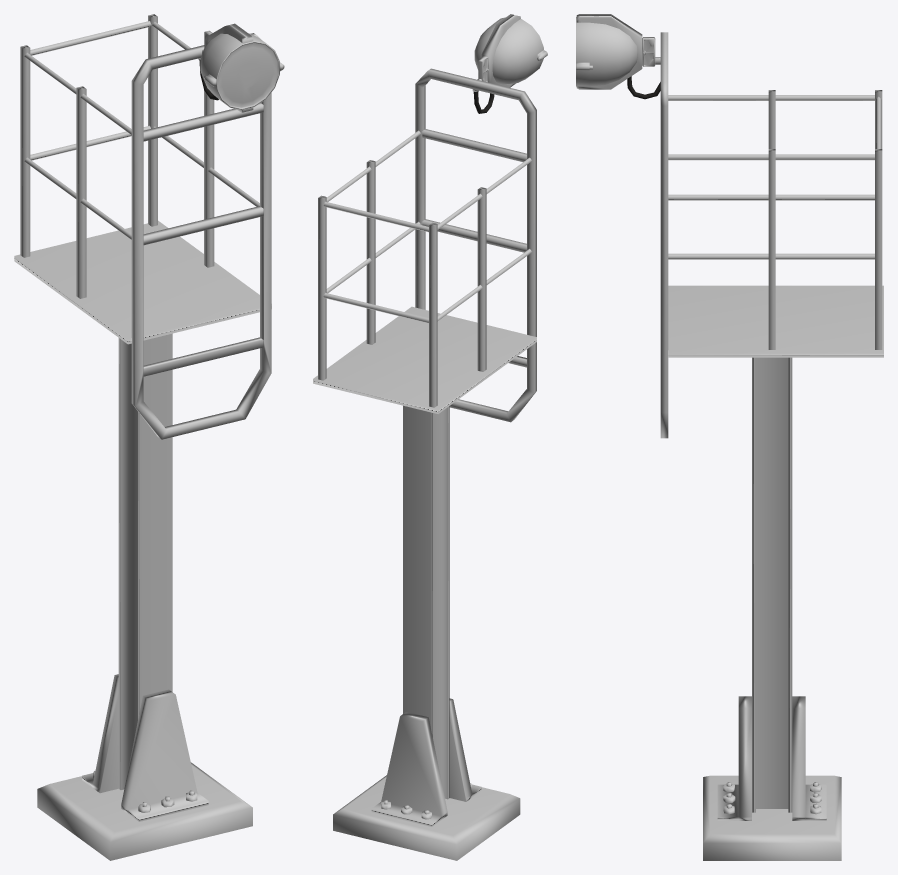
Rendered from anflugfeuersystem_atr_mast_kaefig.fbx.
3 renders of one model, left to right at view 1: azimuth 30°, elevation 25°; view 2: azimuth 150°, elevation 25°; view 3: azimuth 270°, elevation 25°, orthographic. The views are drawn at different scales.
Visible parts, largest first — view 1: Mesh; view 2: Mesh; view 3: Mesh.
Boxes of the visible parts, x1=… form: Mesh: x1=14, y1=14, x2=284, y2=860; Mesh: x1=313, y1=14, x2=547, y2=860; Mesh: x1=576, y1=14, x2=883, y2=860.
Size of the model in its own units: 46.7 by 265 by 90.96.
